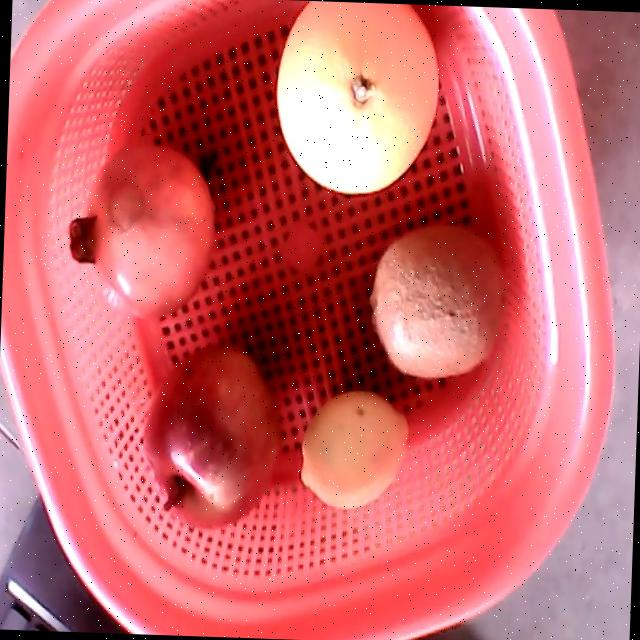apple: (142, 340, 279, 527), (368, 223, 505, 378)
lemon: (298, 390, 407, 508)
orange: (275, 1, 439, 193)
pomegranate: (67, 142, 214, 319)
